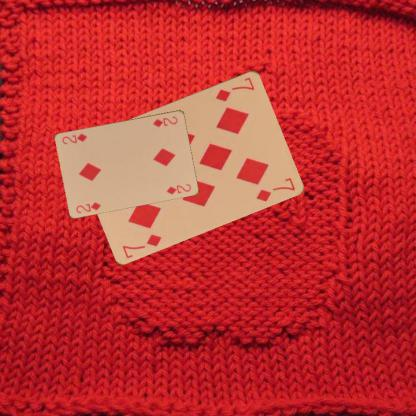2d: (74, 199, 102, 214), (150, 114, 179, 128)
7d: (120, 231, 164, 260), (213, 74, 256, 103)
